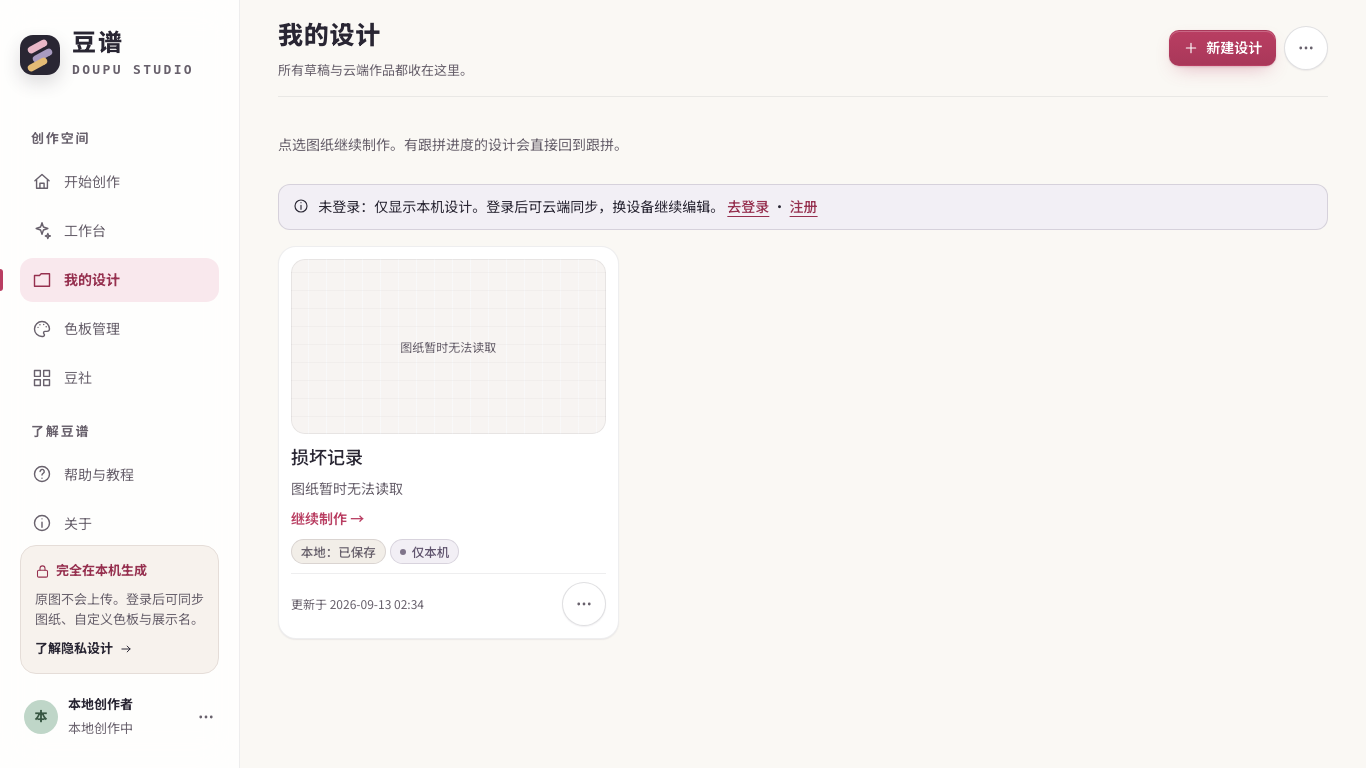
DesignsView › 损坏的本地记录不会被静默替换或作为有效图纸打开
Click the button with aria-label "继续制作：损坏记录" at (448, 395), box [291,259,606,530]
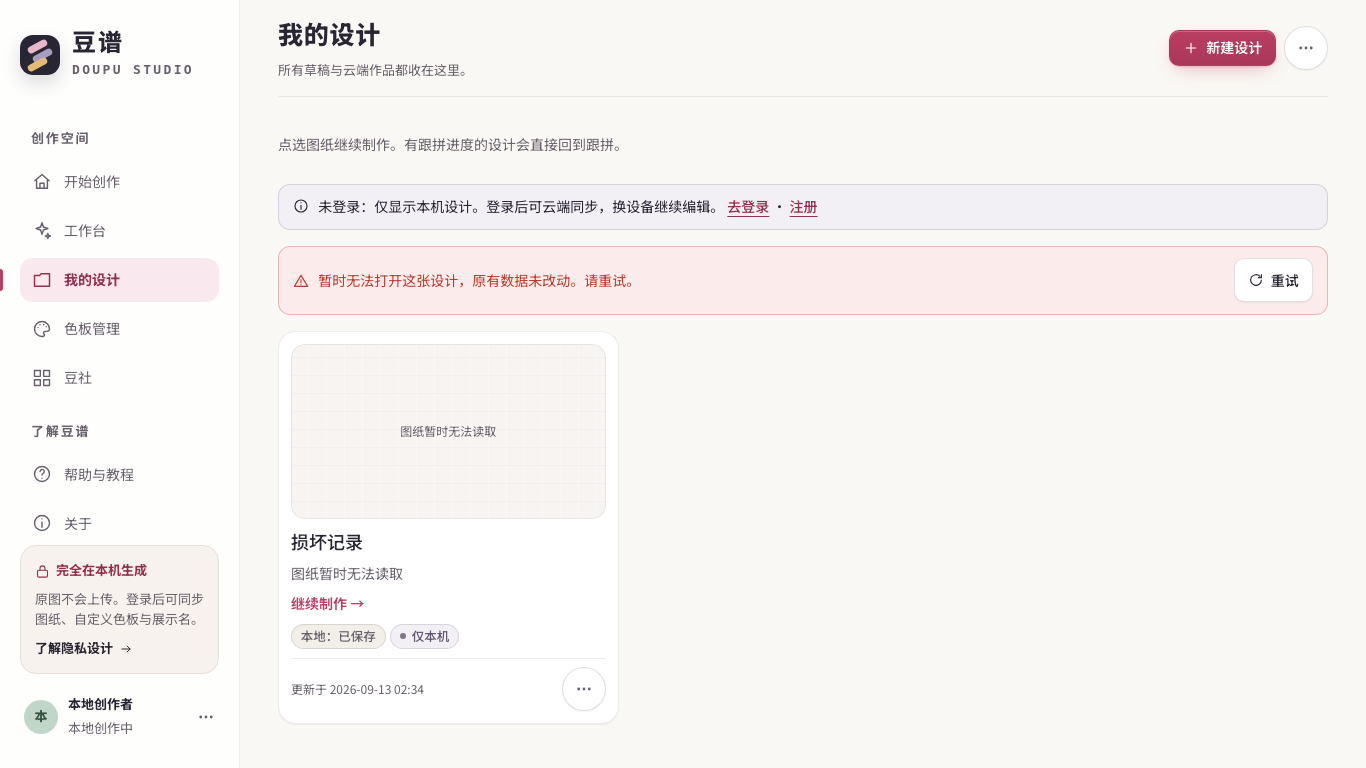
Expected: the text "暂时无法打开这张设计，原有数据未改动。请重试。" is shown, [318,272,640,288]
